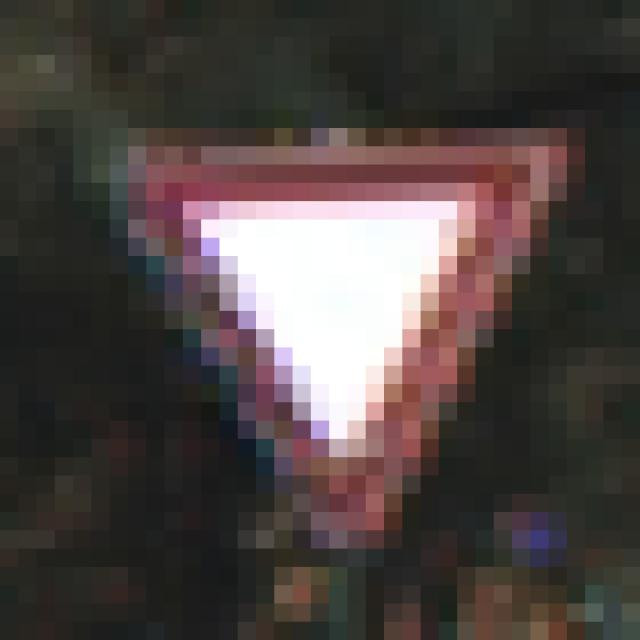Give Way: (93, 111, 532, 550)
